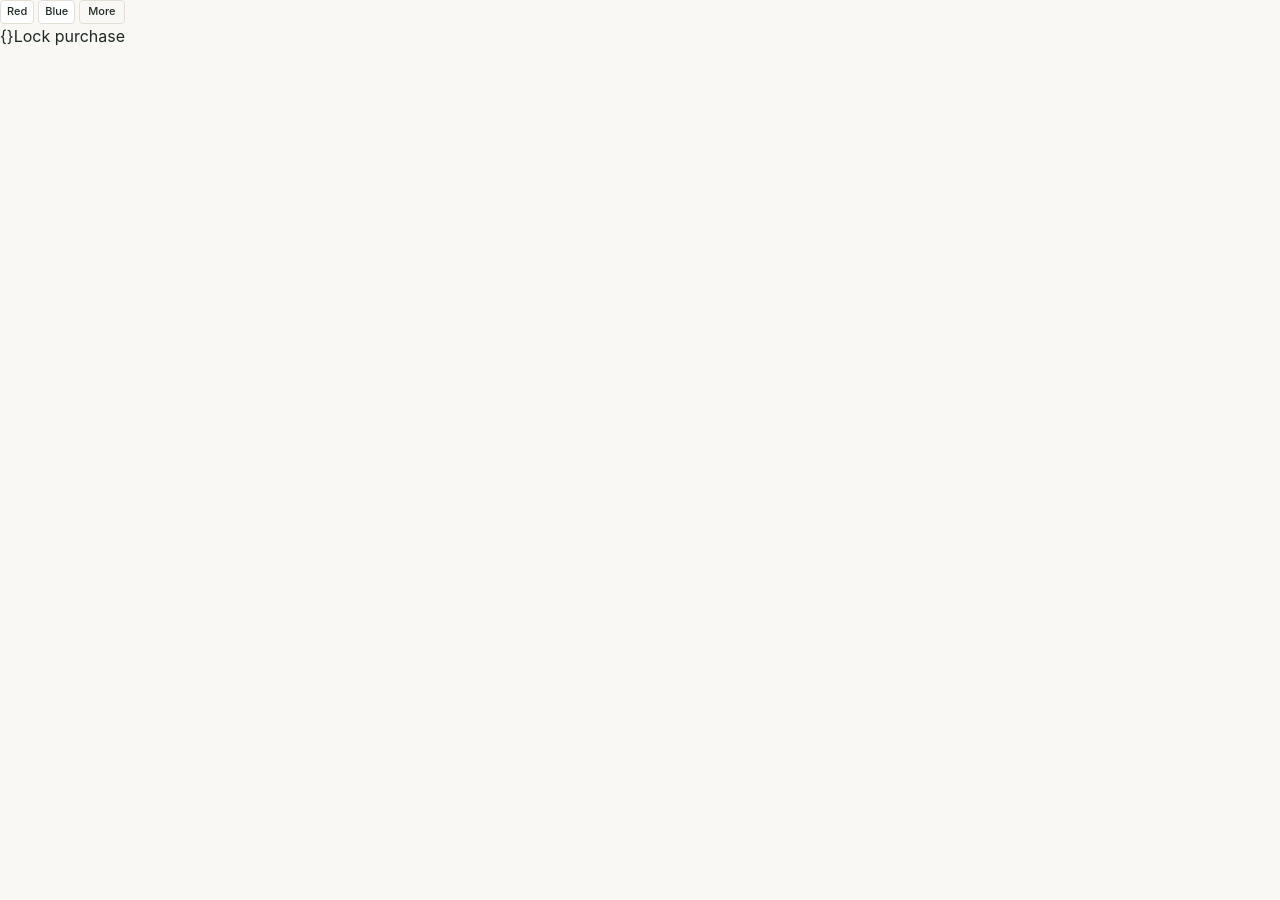
Scenario: ProductCardVariantSelector › does not hide a required single-value dimension on a multiple-SKU product
Check: the button "Oak" is not shown
Click the button with aria-label "More options" at (102, 12), box top-left (79, 0), bottom-right (124, 24)
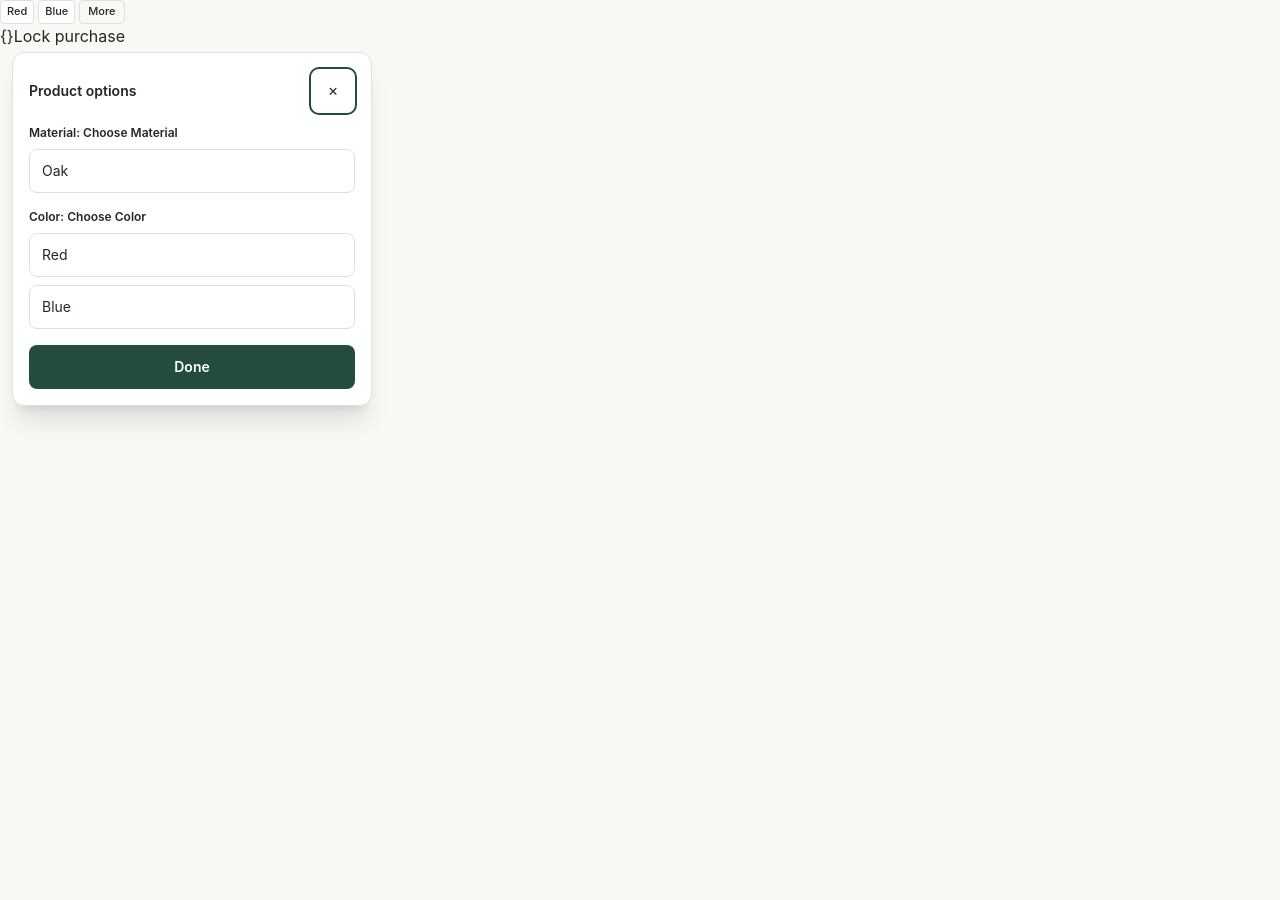
Click the button "Oak" at (55, 170), box top-left (29, 149), bottom-right (355, 193)
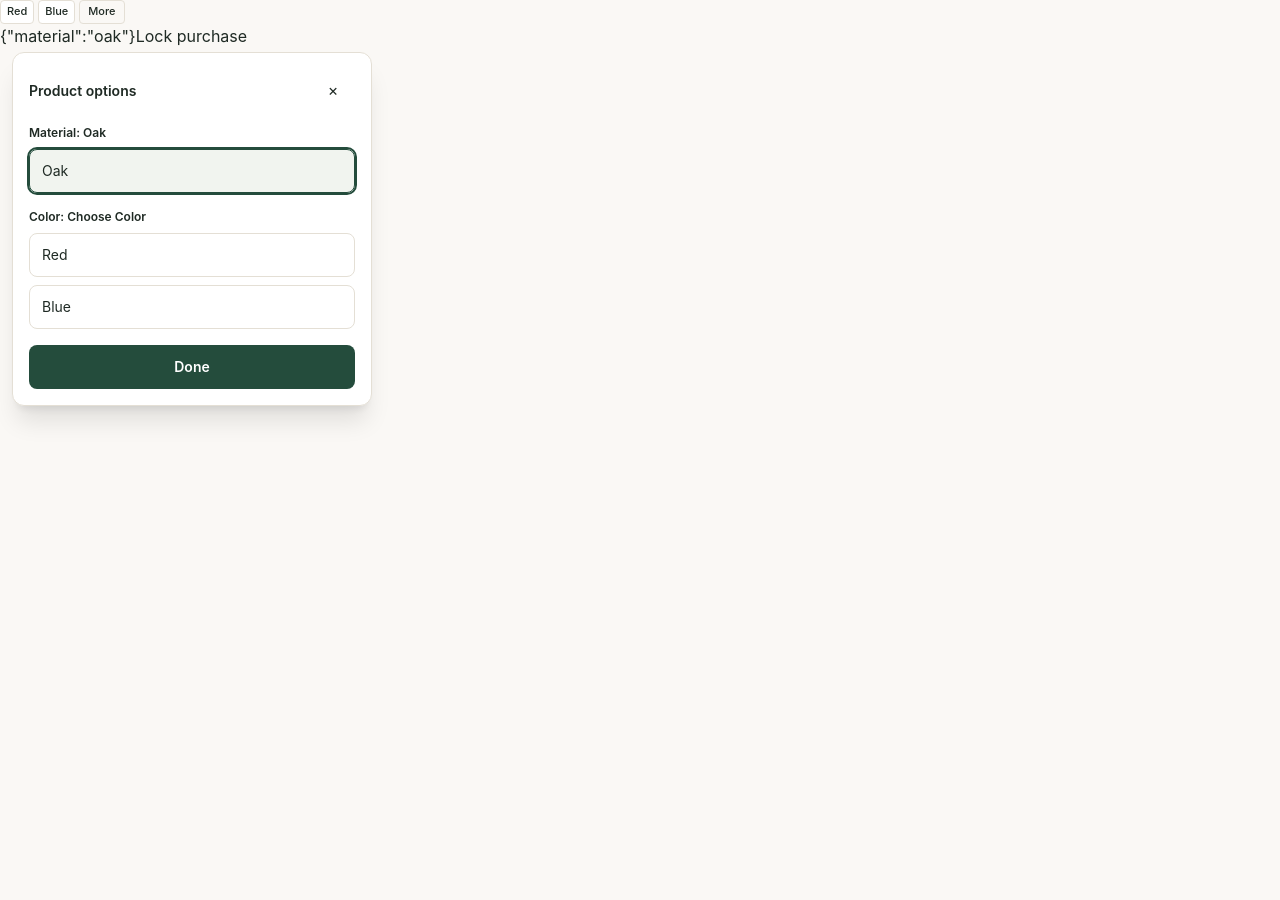
Click the button "Blue" at (56, 306), box top-left (29, 285), bottom-right (355, 329)
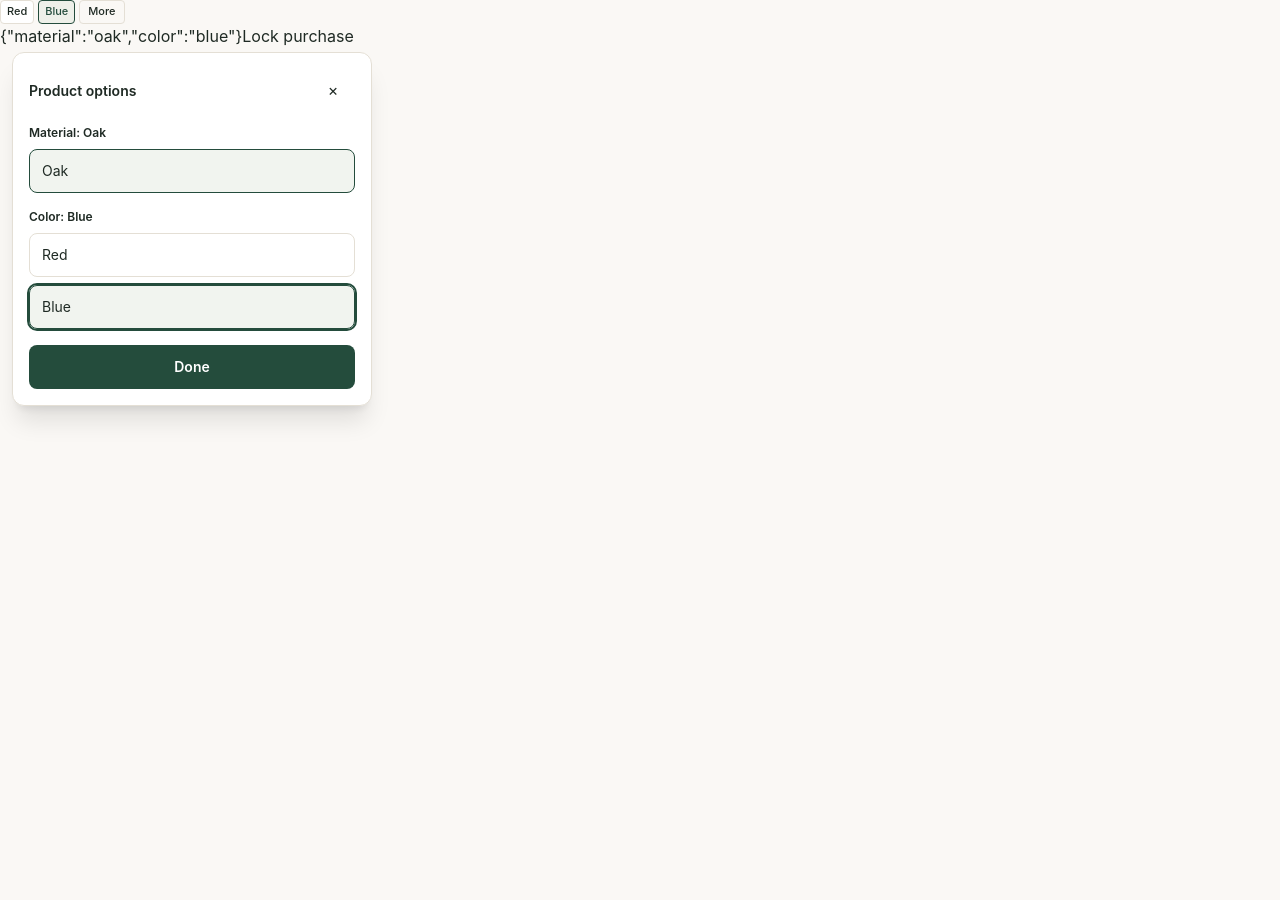
Check: the text with test id "selection" reads "{\"material\":\"oak\",\"color\":\"blue\"}", box top-left (0, 26), bottom-right (242, 46)
